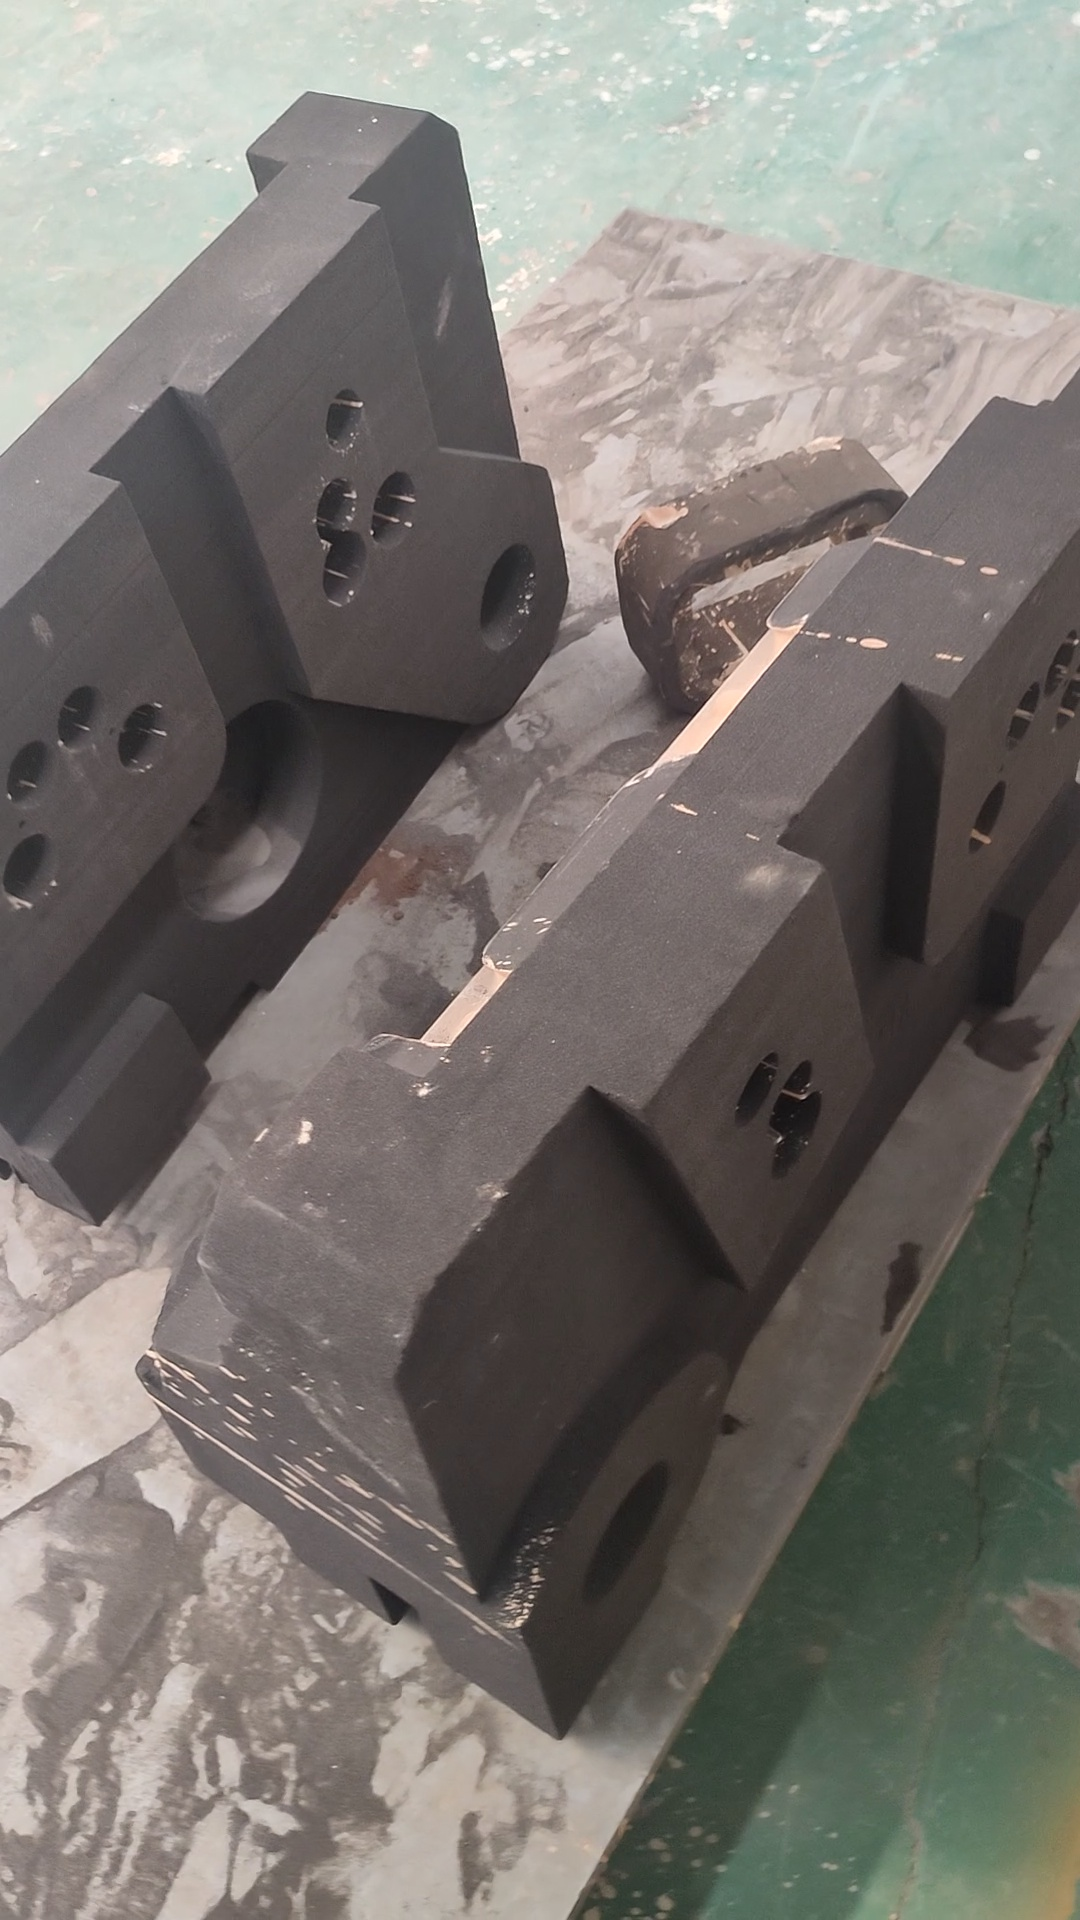pouring hole: (580, 1461, 670, 1607), (480, 542, 535, 655)
